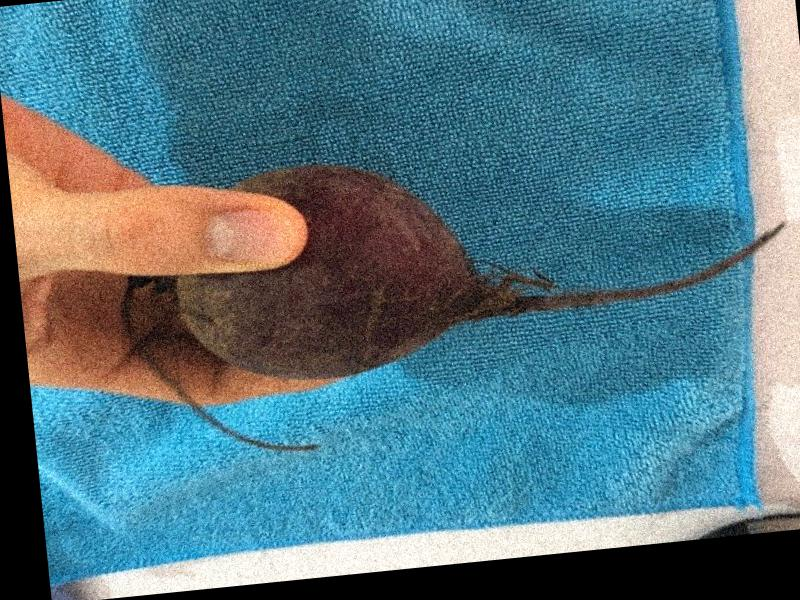Beet: (110, 117, 800, 465)
